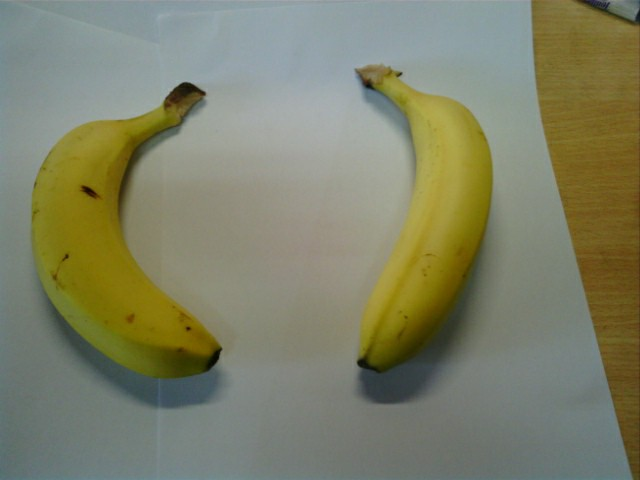fresh_banana: (351, 64, 495, 382)
normal_banana: (30, 85, 222, 380)
